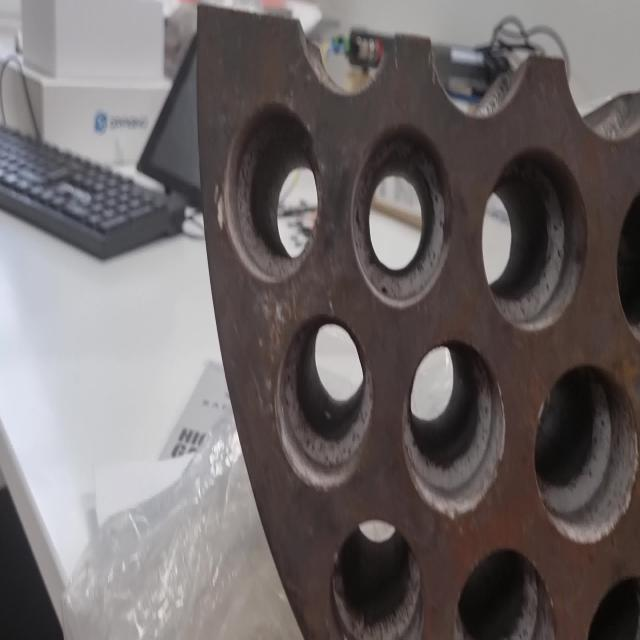Hole: (481, 142, 588, 332), (402, 335, 507, 519), (533, 362, 639, 544), (351, 121, 453, 310), (216, 102, 323, 282), (274, 313, 375, 490), (329, 518, 424, 640), (455, 546, 557, 640)
